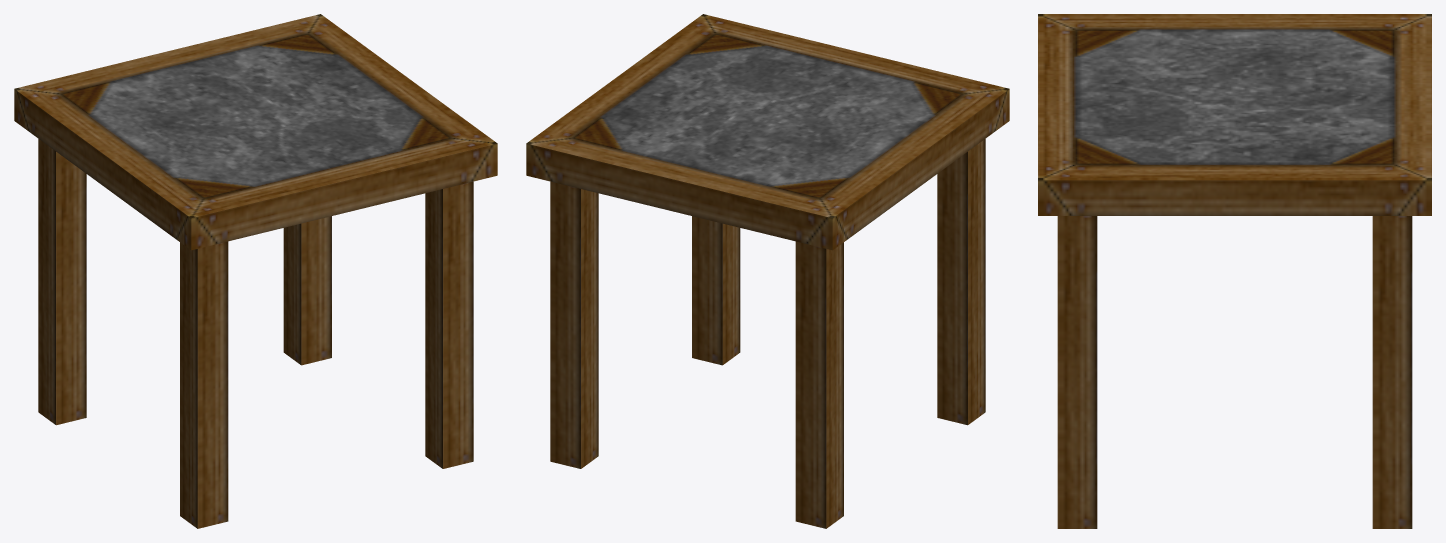
Rendered from table.fbx.
The picture shows the model from 3 angles, left to right: view 1: azimuth 30°, elevation 25°; view 2: azimuth 150°, elevation 25°; view 3: azimuth 270°, elevation 25°; orthographic projection. The views are drawn at different scales.
Visible parts, largest first — view 1: table; view 2: table; view 3: table.
Boxes of the visible parts, bbox=[...] form: table: bbox=[14, 14, 497, 528]; table: bbox=[526, 14, 1009, 528]; table: bbox=[1038, 14, 1431, 528].
Bounding box in the file's own units: 200 × 200 × 200.
Materials: 1 (1 with a texture image).
